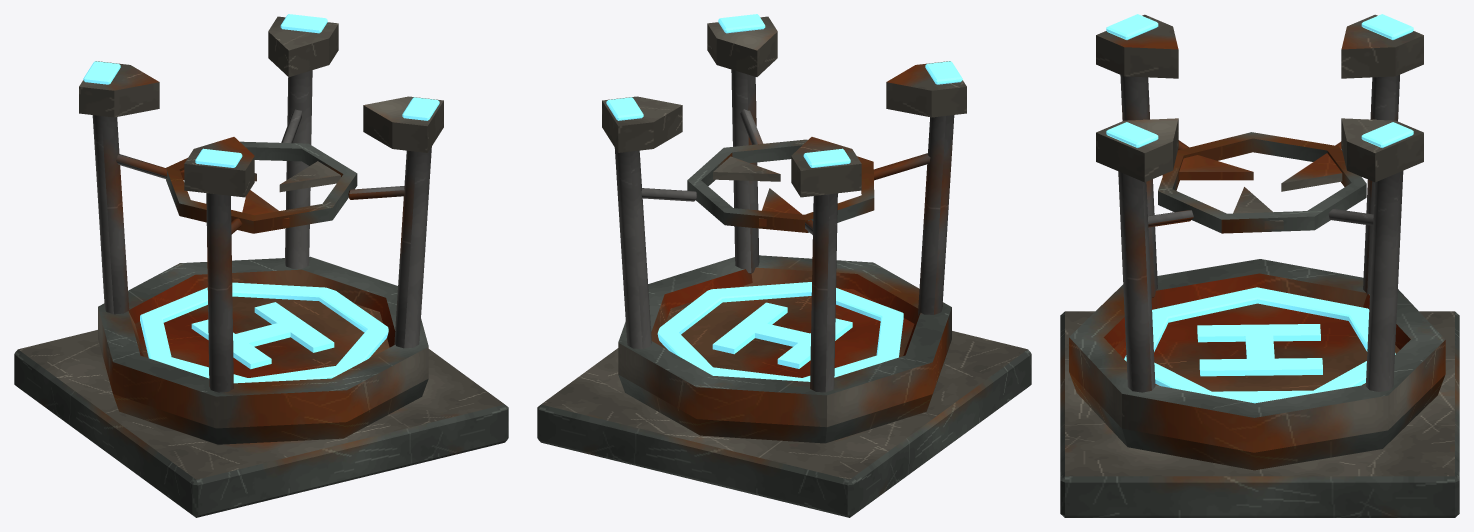
The model's file is R4X_FlyingDroneDeployer_LOD1.glb.
The picture shows the model from 3 angles, left to right: view 1: azimuth 30°, elevation 25°; view 2: azimuth 150°, elevation 25°; view 3: azimuth 270°, elevation 25°; orthographic projection. The views are drawn at different scales.
Parts seen in each view (by area): view 1: R4X_FlyingDroneDeployer_LOD1; view 2: R4X_FlyingDroneDeployer_LOD1; view 3: R4X_FlyingDroneDeployer_LOD1.
Boxes of the visible parts, x1,y1,x2,y2 form: R4X_FlyingDroneDeployer_LOD1: [14, 14, 508, 517]; R4X_FlyingDroneDeployer_LOD1: [537, 14, 1031, 517]; R4X_FlyingDroneDeployer_LOD1: [1060, 14, 1459, 517].
Size of the model in its own units: 0.52 by 0.513 by 0.52.
5 materials, 4 textured.
